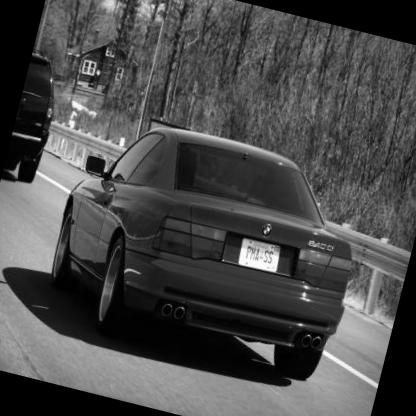car: (19, 91, 406, 411)
